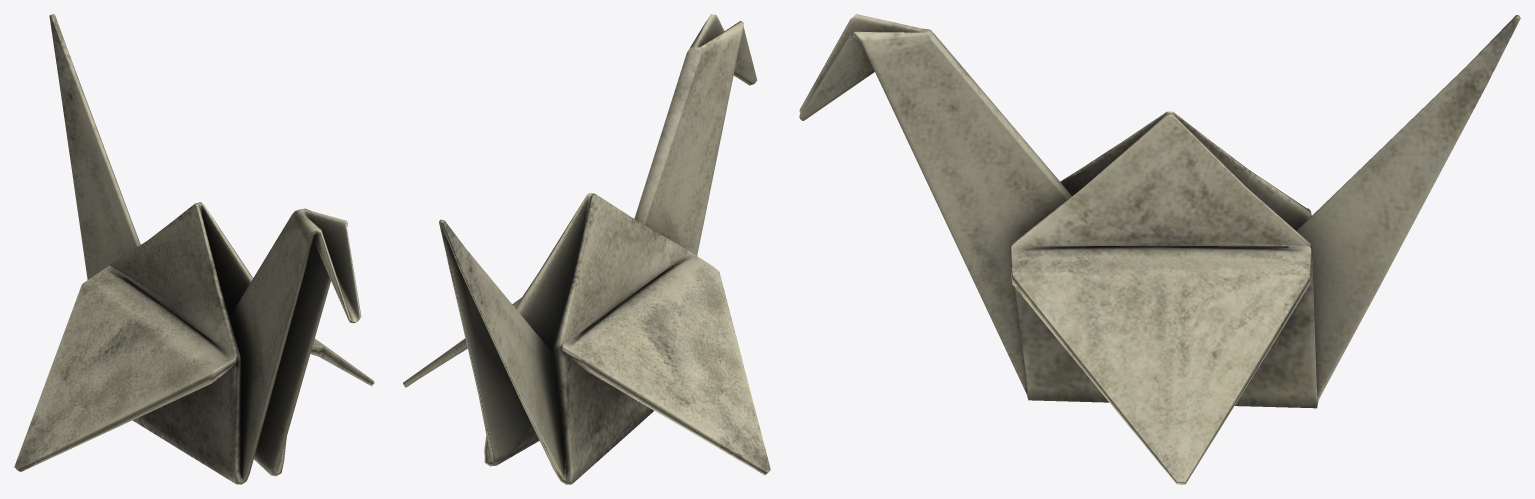
Rendered from brandon_origami02.dae.
3 views of the same model, side by side, from view 1: azimuth 30°, elevation 25°; view 2: azimuth 150°, elevation 25°; view 3: azimuth 270°, elevation 25° (orthographic). The views are drawn at different scales.
Visible parts, largest first — view 1: polySurface11; view 2: polySurface11; view 3: polySurface11.
Part boxes in pixels (x1=…): polySurface11: x1=14, y1=14, x2=374, y2=484; polySurface11: x1=403, y1=14, x2=770, y2=484; polySurface11: x1=799, y1=14, x2=1520, y2=484.
Bounding box in the file's own units: 0.2037 × 0.1714 × 0.2999.
